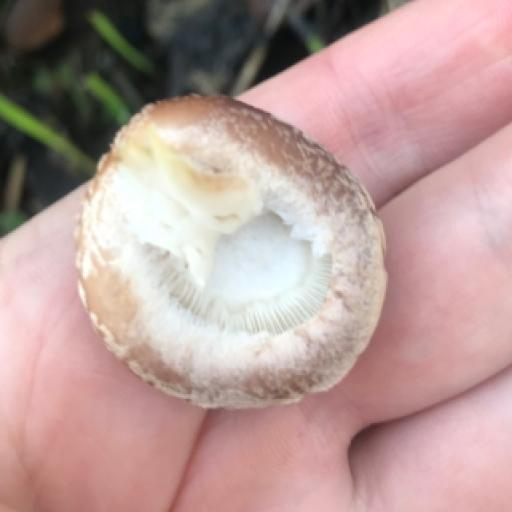Shiitake Mushroom: (74, 102, 401, 415)
